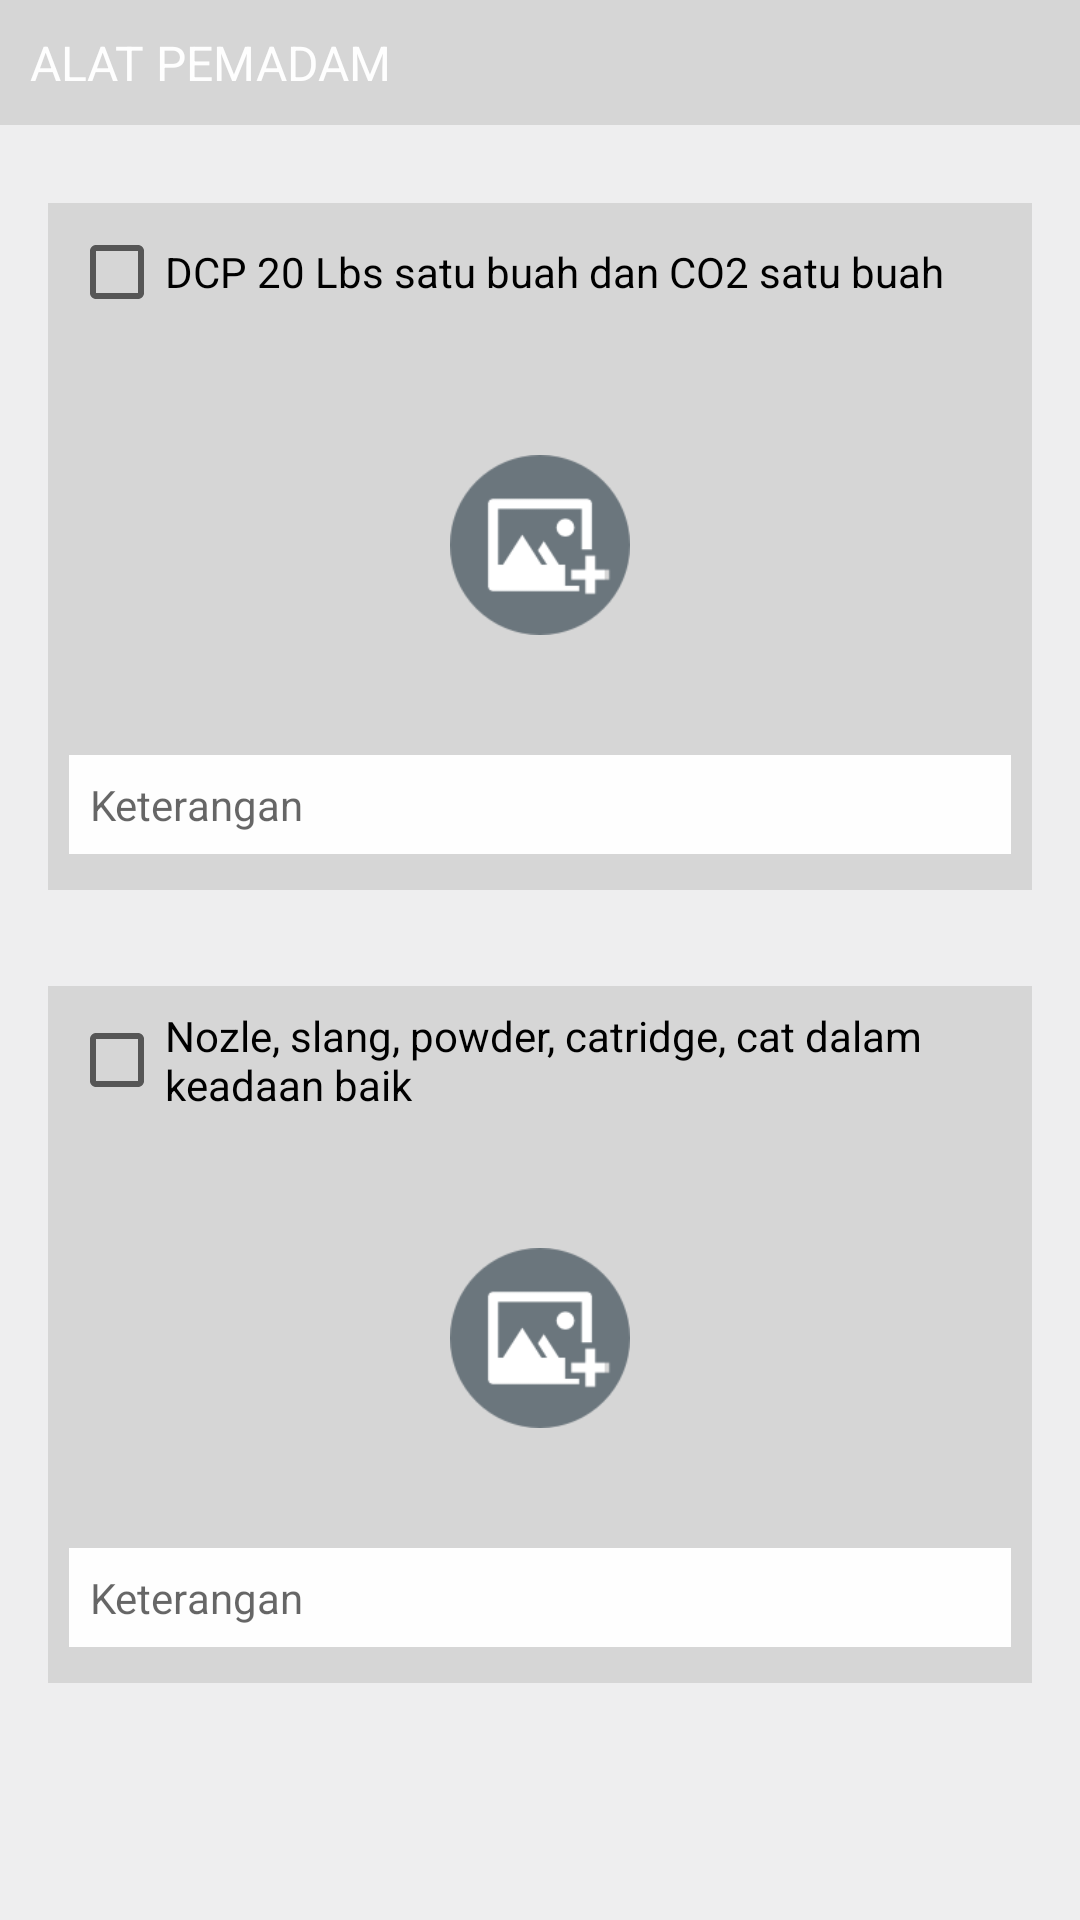

Screen size 1080 × 1920. Icon name, then its box in pixels as (x1, y1, x2, y2):
add: (450, 455, 630, 635), (450, 1248, 630, 1428)
